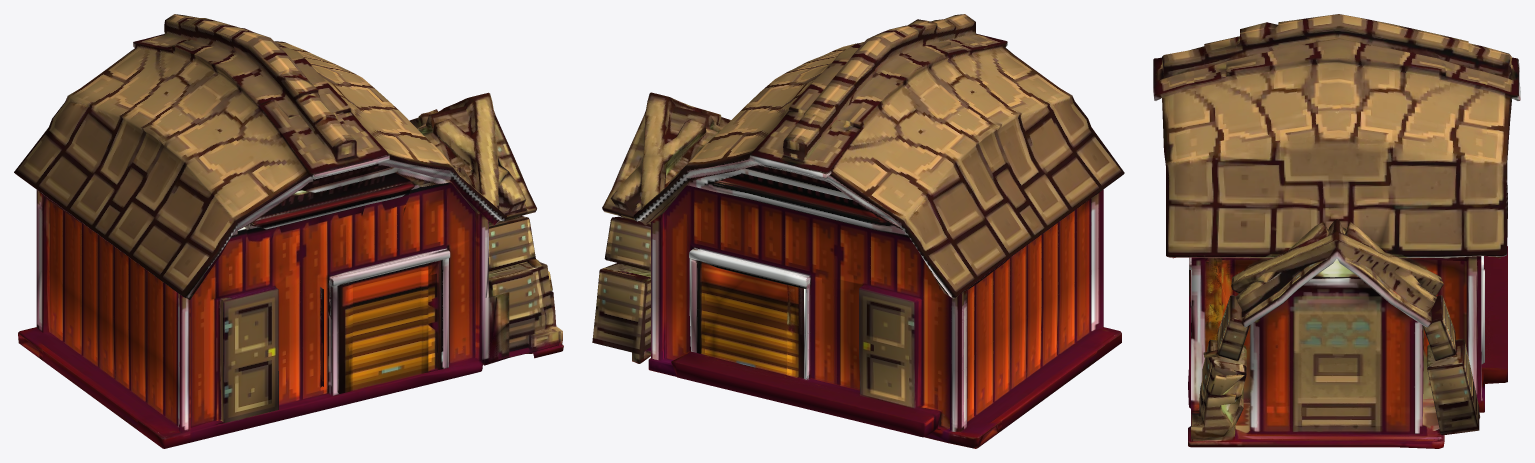
Rendered from barn.glb.
3 renders of one model, left to right at view 1: azimuth 30°, elevation 25°; view 2: azimuth 150°, elevation 25°; view 3: azimuth 270°, elevation 25°, orthographic.
Size of the model in its own units: 1.91 by 1.44 by 1.5.
Materials: 1 (1 with a texture image).
